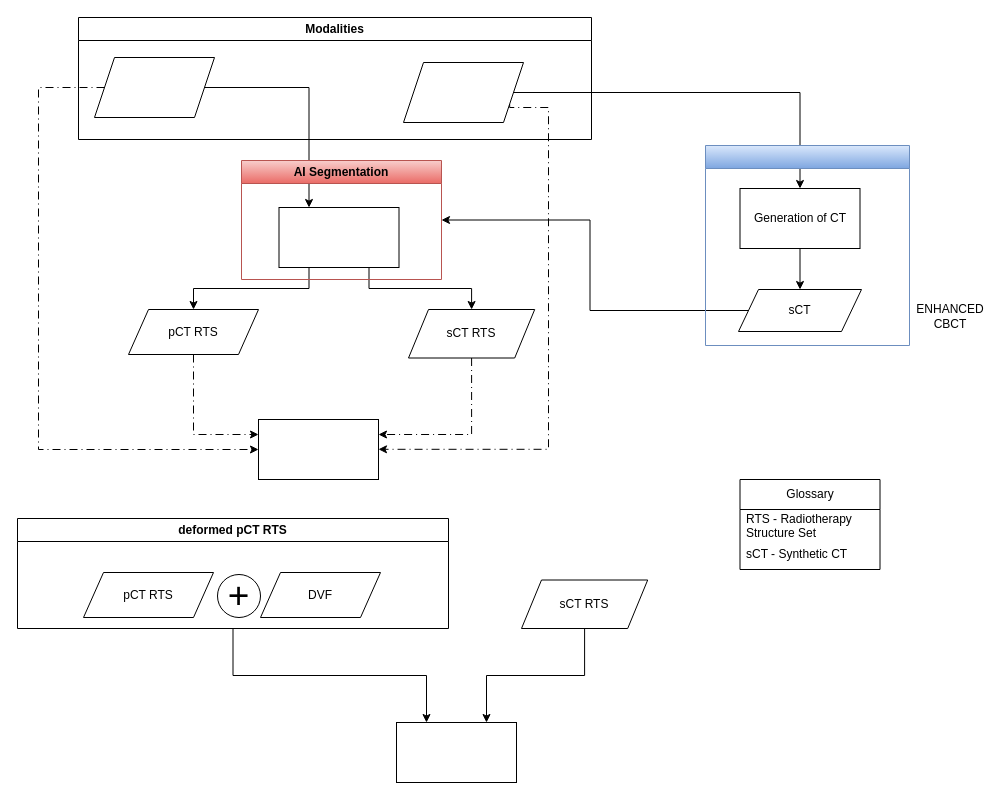
Image size: 1001x800. Some labels were removed from this diagram. Each missing label, with the centre of its shape:
"(planning) CT" goes at pixel 154 87.
"CBCT" goes at pixel 463 92.
"Dice loss" goes at pixel 456 752.
"DIR Training" goes at pixel 318 449.
"Segmentation(U-Net)" goes at pixel 338 237.
"Synthetic CT generation" goes at pixel 807 245.
